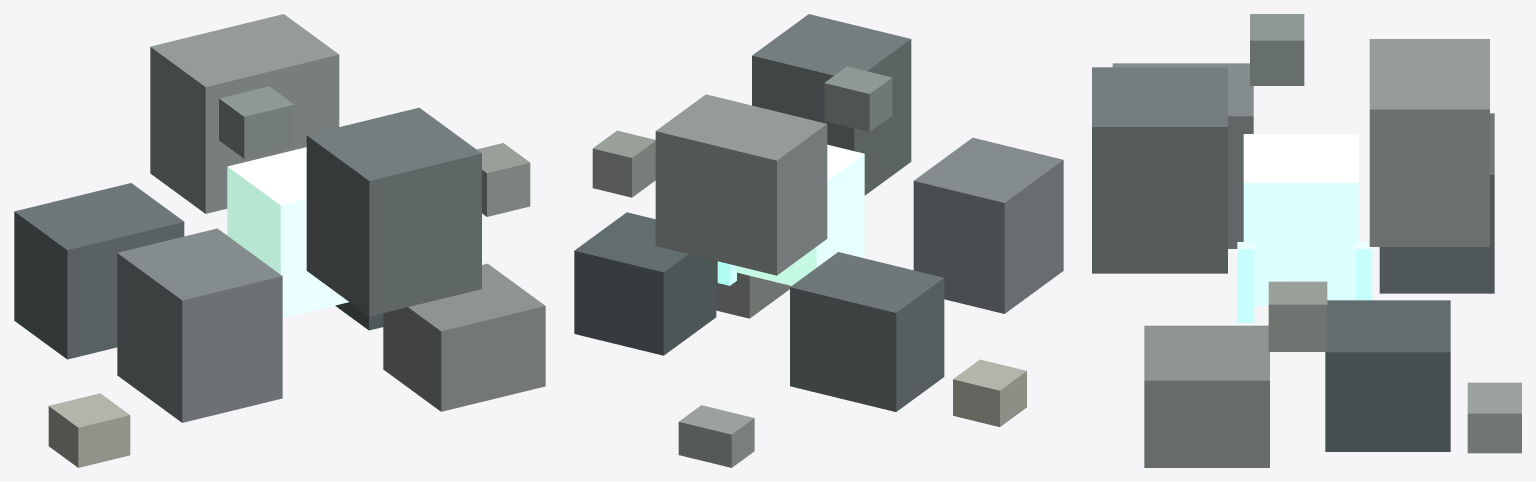
Rendered from pebble.glb.
3 renders of one model, left to right at view 1: azimuth 30°, elevation 25°; view 2: azimuth 150°, elevation 25°; view 3: azimuth 270°, elevation 25°, orthographic. The views are drawn at different scales.
Visible parts, largest first — view 1: Floating_Stone, Stone_Shards, Core; view 2: Floating_Stone, Stone_Shards, Core; view 3: Floating_Stone, Core, Stone_Shards, Runes.
Part boxes in pixels (<box>): Floating_Stone: <box>14,14,545,422</box>; Stone_Shards: <box>48,86,530,467</box>; Core: <box>227,147,348,318</box>; Floating_Stone: <box>574,14,1063,411</box>; Stone_Shards: <box>592,66,1026,467</box>; Core: <box>735,144,864,285</box>; Floating_Stone: <box>1092,39,1494,467</box>; Core: <box>1243,134,1358,305</box>; Stone_Shards: <box>1250,14,1521,453</box>; Runes: <box>1237,242,1372,322</box>.
Size of the model in its own units: 5.41 by 4.02 by 4.11.
